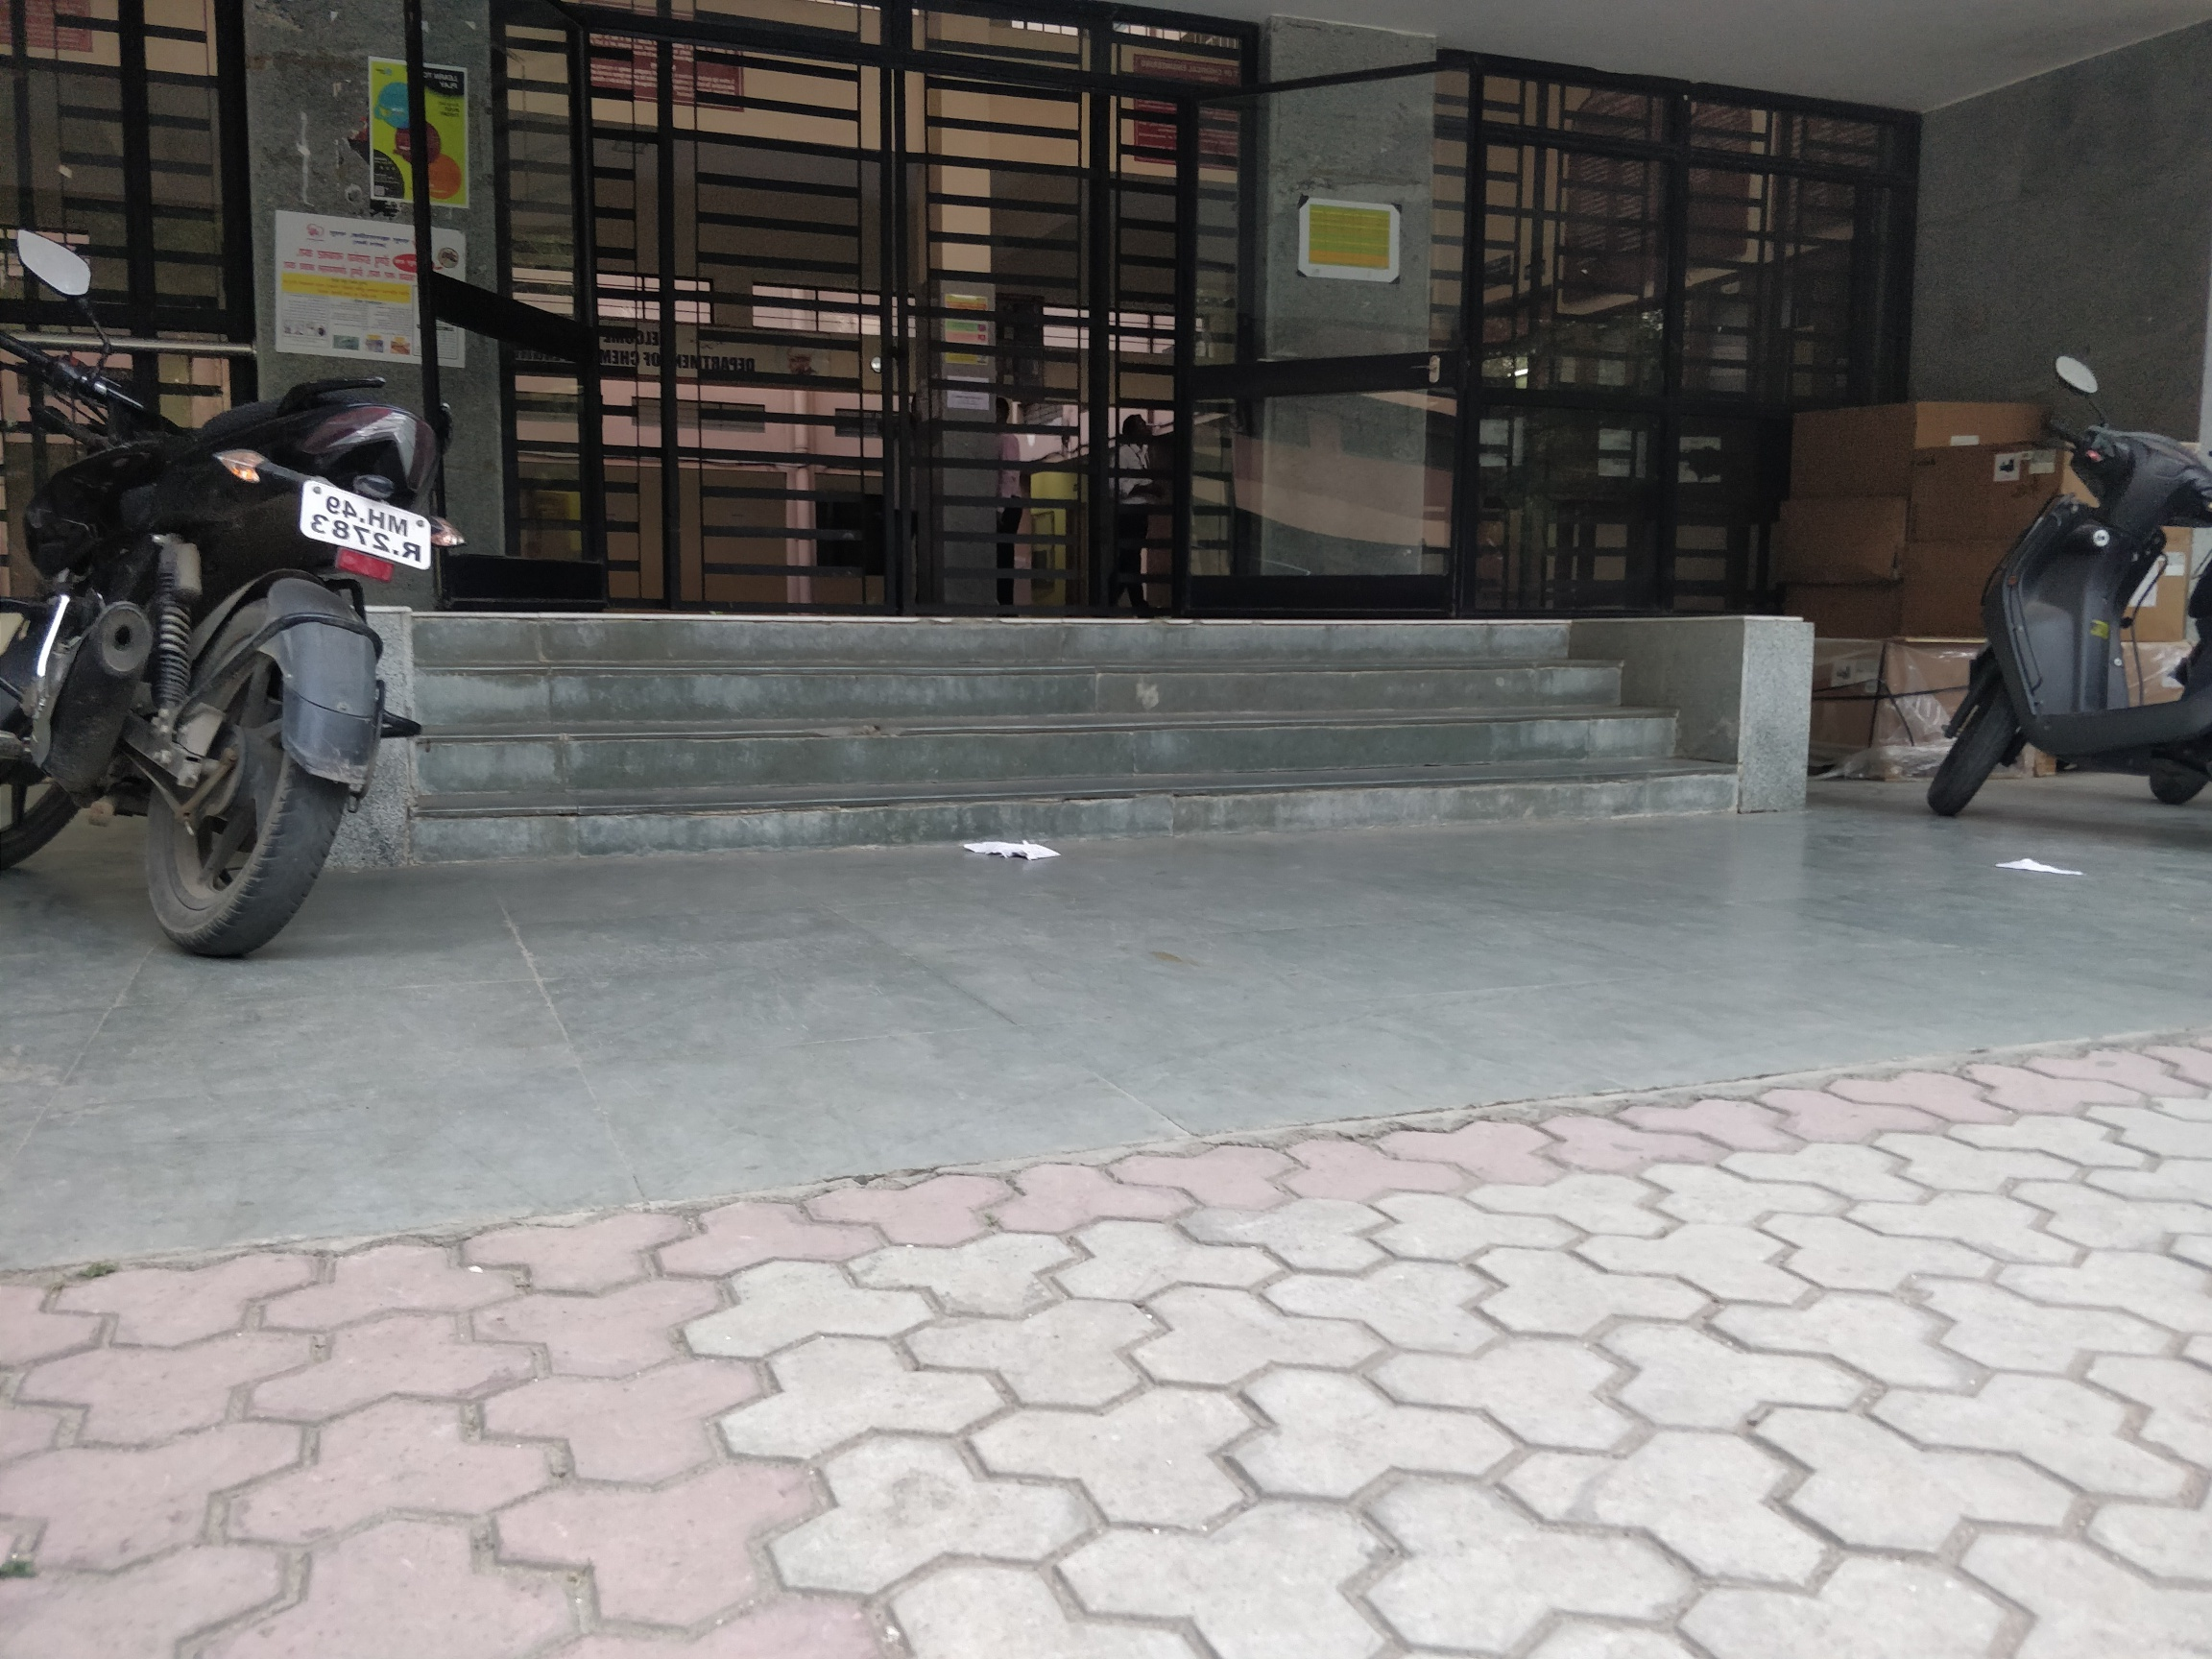stairs_up: (416, 612, 1712, 819)
